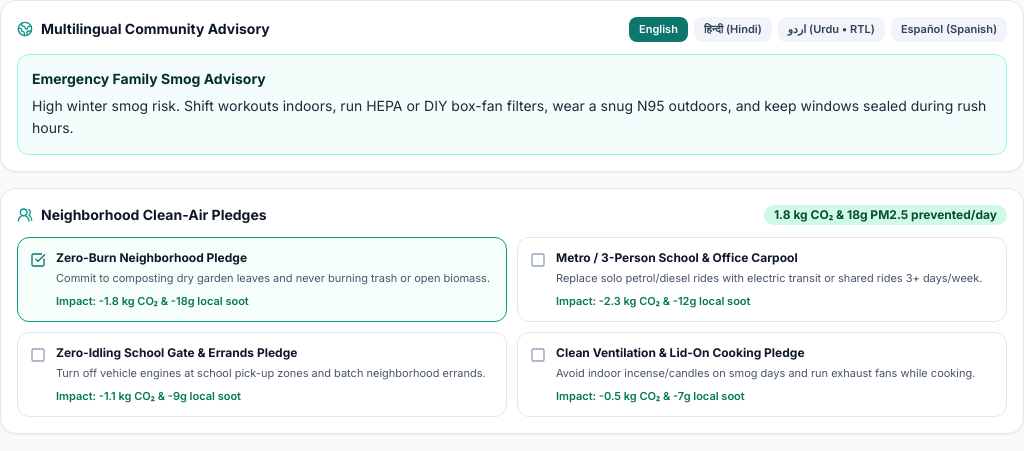
Test: CommunityHub & Multilingual RTL Advisories › switches across all 4 advisory languages and updates pledge totals
Click the button "हिन्दी (Hindi)": (733, 29) x1=694 y1=17 x2=772 y2=42
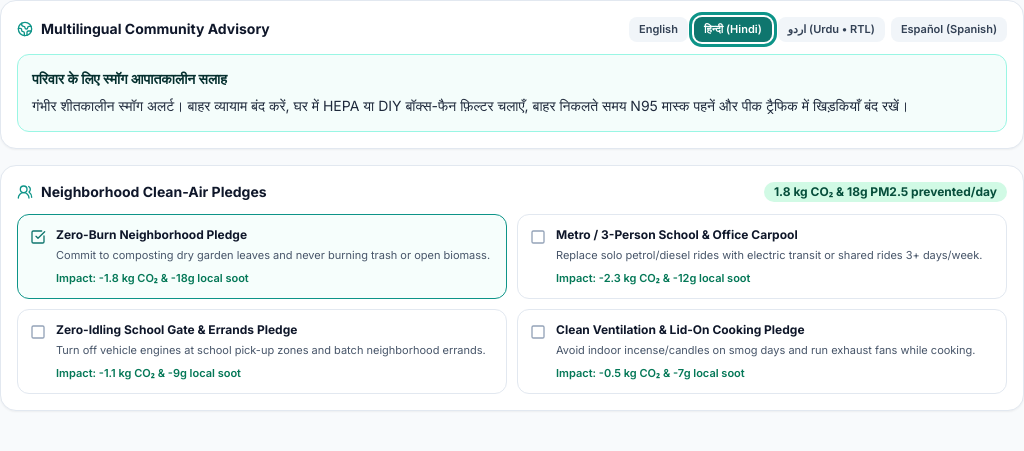
Expected: the heading "परिवार के लिए स्मॉग आपातकालीन सलाह" is shown, x1=32 y1=70 x2=227 y2=86
Click the button "Español (Spanish)": (949, 29) x1=891 y1=17 x2=1007 y2=42
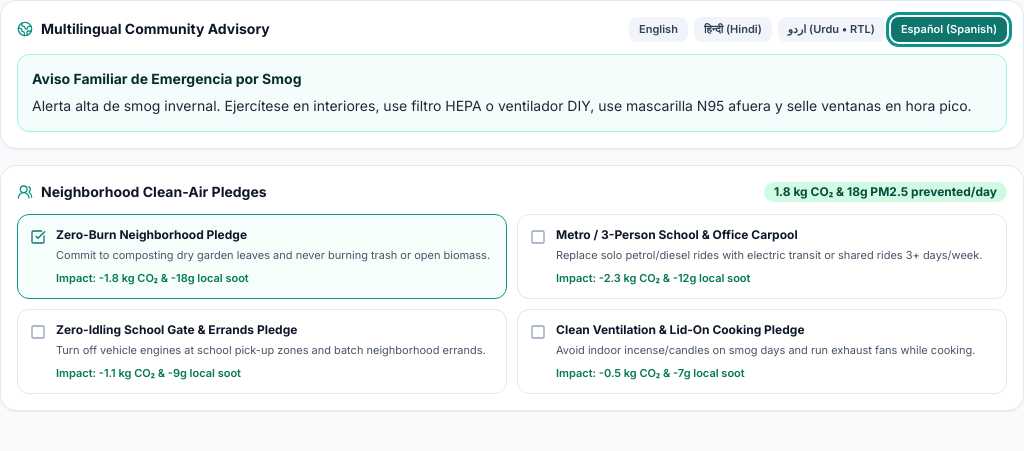
Expected: the heading "Aviso Familiar de Emergencia por Smog" is shown, x1=32 y1=70 x2=302 y2=86
Click the button "اردو (Urdu • RTL)": (831, 29) x1=778 y1=17 x2=885 y2=42
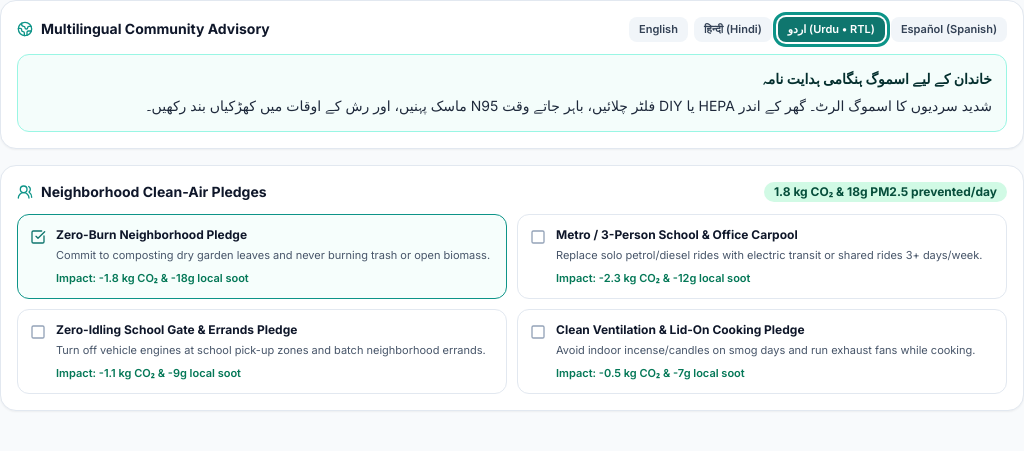
Expected: the element named "Multilingual emergency smog advisory" has attribute dir="rtl", x1=0 y1=0 x2=1023 y2=149
Click the button "3-Person School & Office Carpool": (762, 257) x1=517 y1=214 x2=1007 y2=299
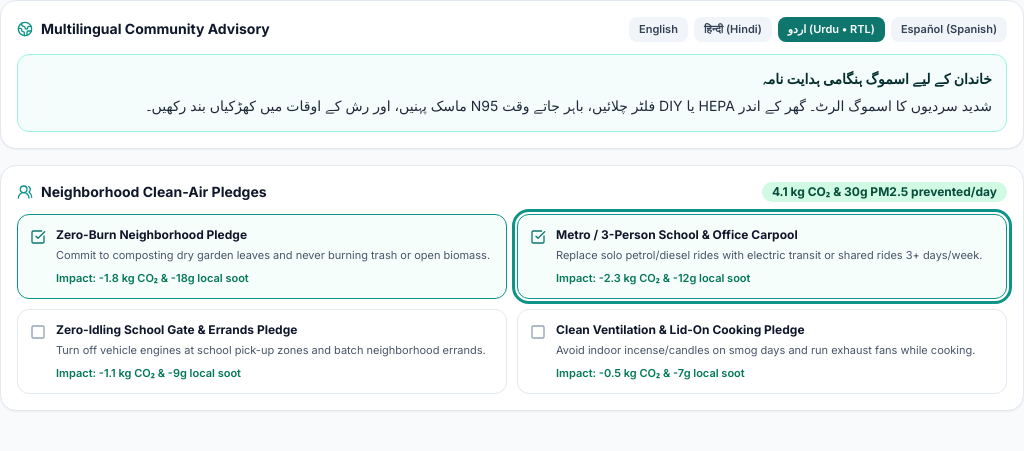
Expected: the text "4.1 kg CO₂ & 30g PM2.5 prevented/day" is shown, x1=762 y1=182 x2=1007 y2=202
